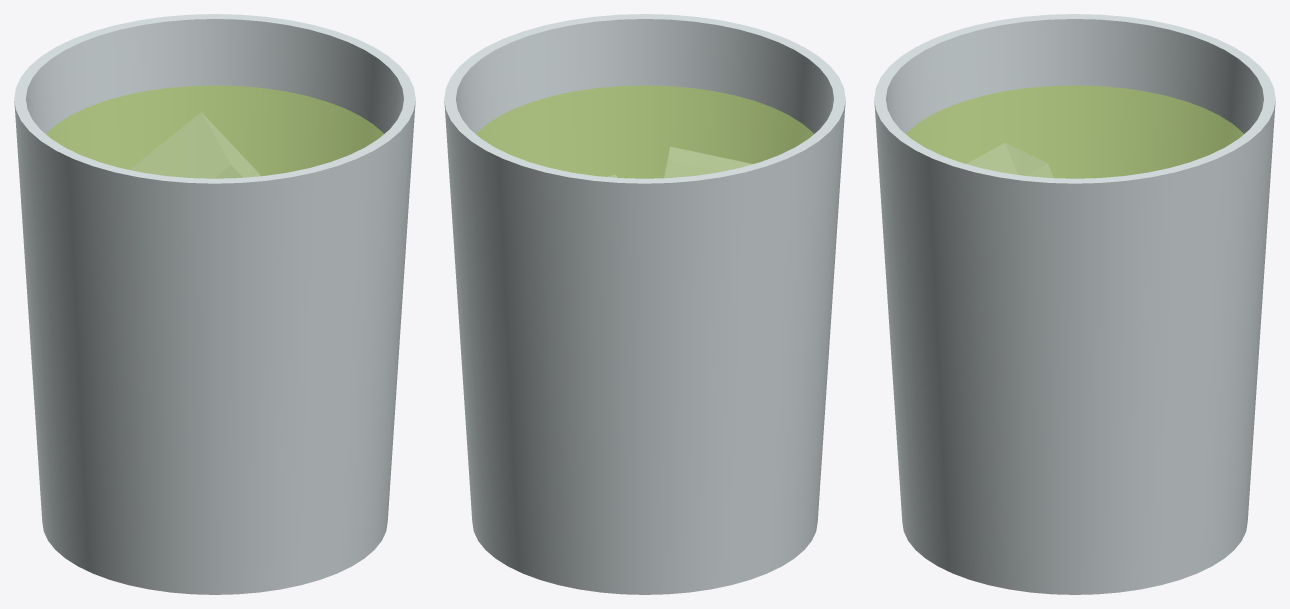
The model's file is caipirinha-verde.glb.
3 renders of one model, left to right at view 1: azimuth 30°, elevation 25°; view 2: azimuth 150°, elevation 25°; view 3: azimuth 270°, elevation 25°, orthographic.
Visible parts, largest first — view 1: caipirinha-verde; view 2: caipirinha-verde; view 3: caipirinha-verde.
Boxes of the visible parts, x1,y1,x2,y2 form: caipirinha-verde: [14, 14, 415, 594]; caipirinha-verde: [444, 14, 845, 594]; caipirinha-verde: [874, 14, 1275, 594].
Bounding box in the file's own units: 0.086 × 0.1 × 0.086.
